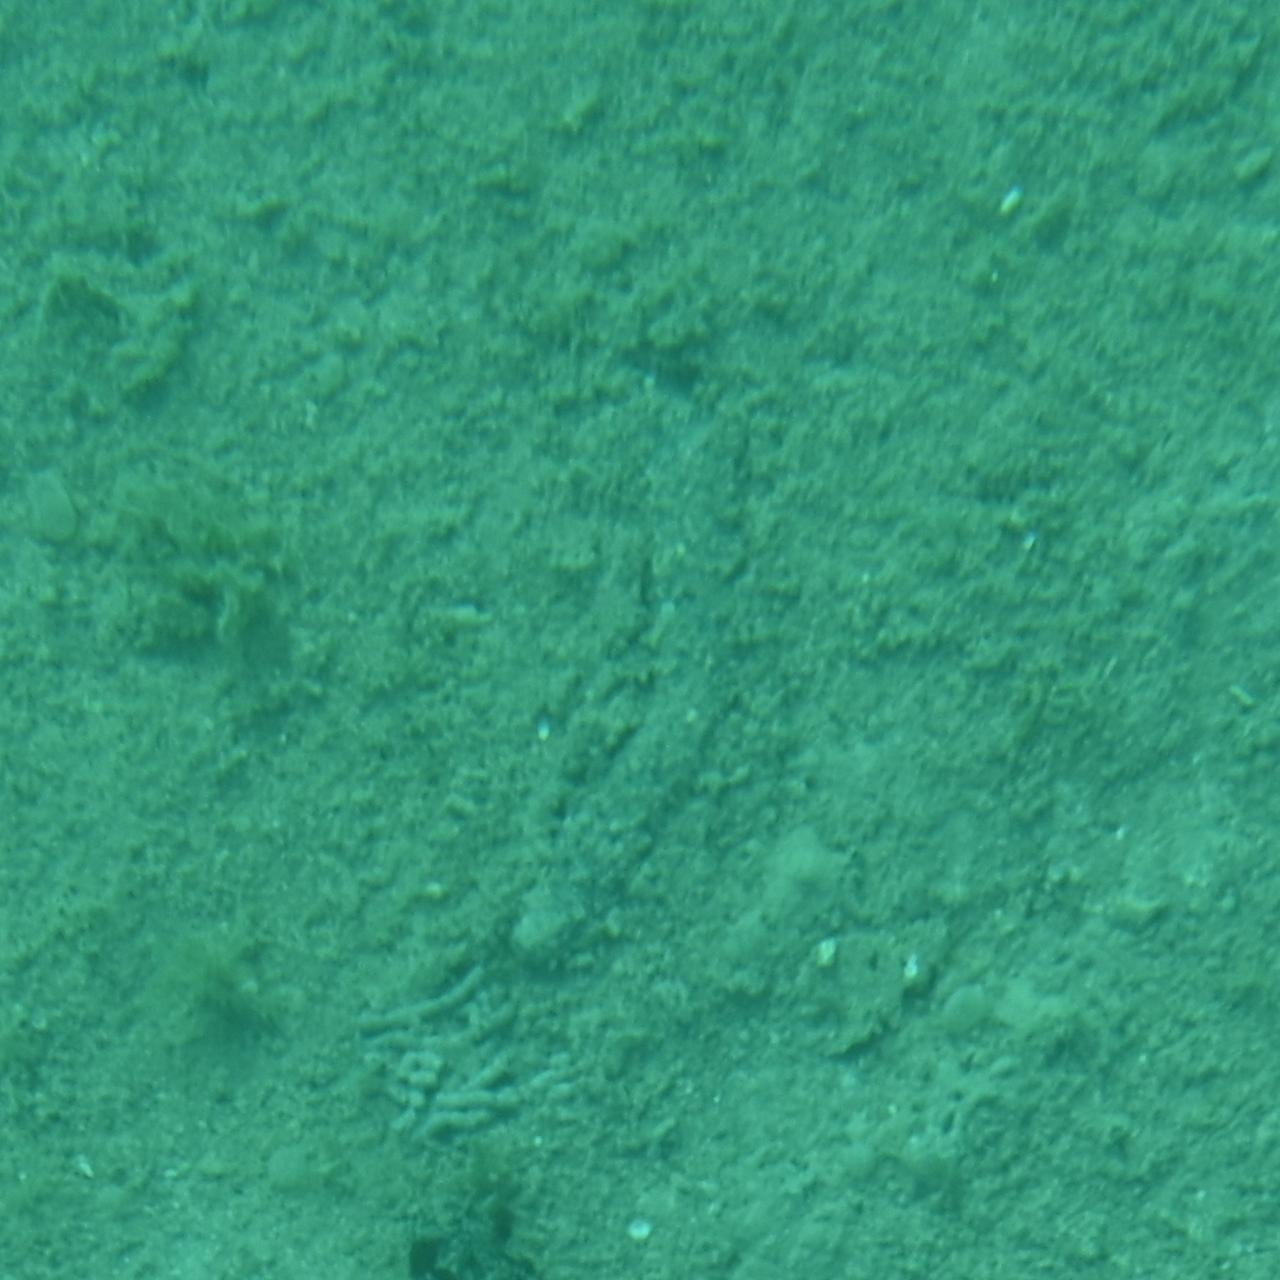Holothuria tubulosa: (518, 306, 762, 974)
